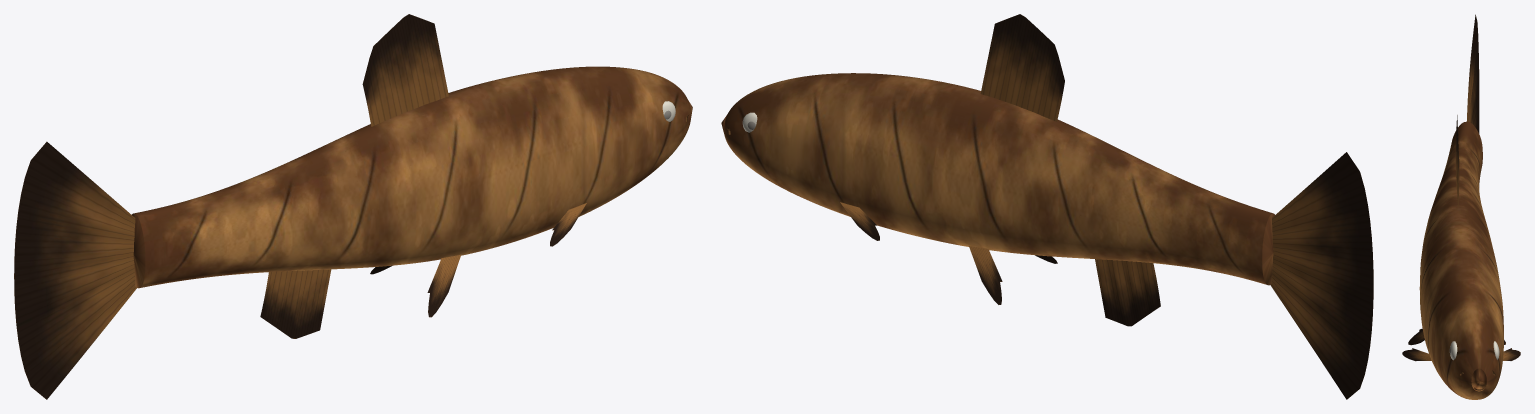
Rendered from fish_tench_cooked.gltf.
3 views of the same model, side by side, from view 1: azimuth 30°, elevation 25°; view 2: azimuth 150°, elevation 25°; view 3: azimuth 270°, elevation 25° (orthographic). The views are drawn at different scales.
Parts seen in each view (by area): view 1: fish_tench_cooked; view 2: fish_tench_cooked; view 3: fish_tench_cooked.
Part boxes in pixels (bbox=[...]): fish_tench_cooked: bbox=[14, 14, 692, 399]; fish_tench_cooked: bbox=[721, 14, 1373, 399]; fish_tench_cooked: bbox=[1402, 14, 1520, 399].
Bounding box in the file's own units: 0.3614 × 0.1568 × 0.0659.
Materials: 7 (4 with a texture image).
